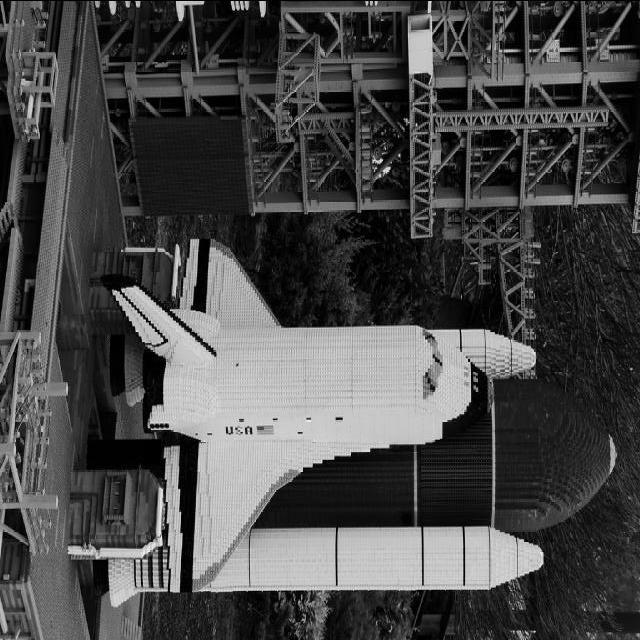missile: (102, 518, 551, 607)
